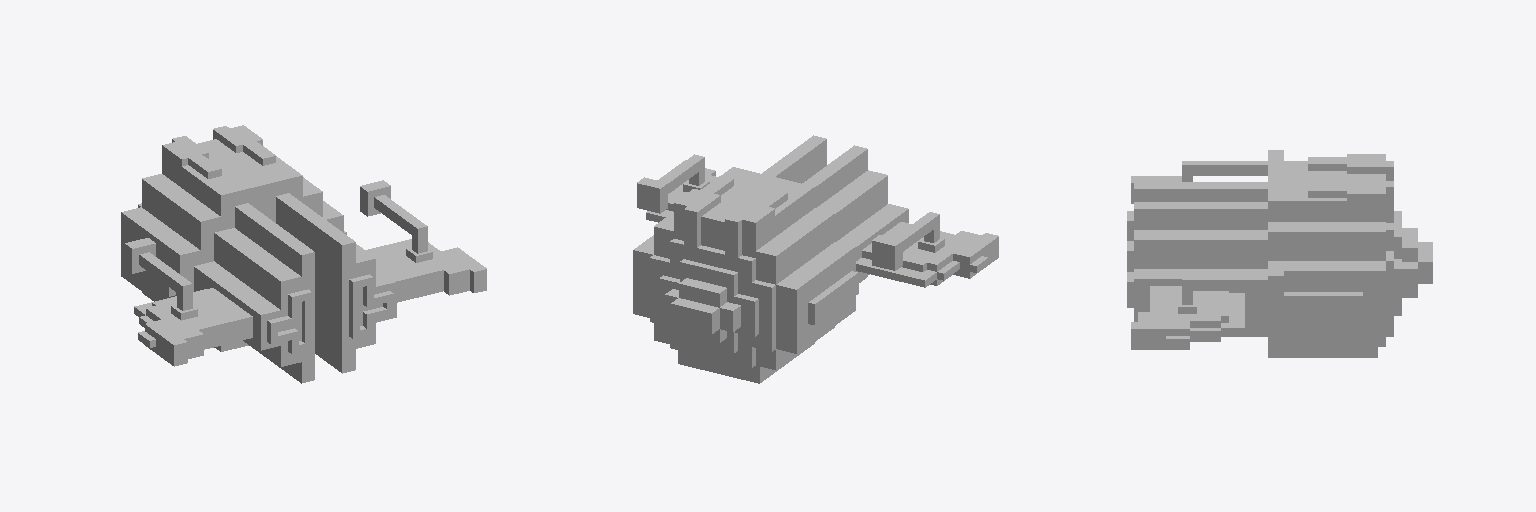
File: 6 Enemy.obj
The picture shows the model from 3 angles: view 1: azimuth 30°, elevation 25°; view 2: azimuth 150°, elevation 25°; view 3: azimuth 270°, elevation 25°; orthographic projection.
Parts seen in each view (by area): view 1: 9 Ship; view 2: 9 Ship; view 3: 9 Ship.
Part boxes in pixels (x1,y1,x2,y2): 9 Ship: (121,125,486,383); 9 Ship: (633,135,998,383); 9 Ship: (1127,150,1432,357).
Size of the model in its own units: 96 by 46 by 78.